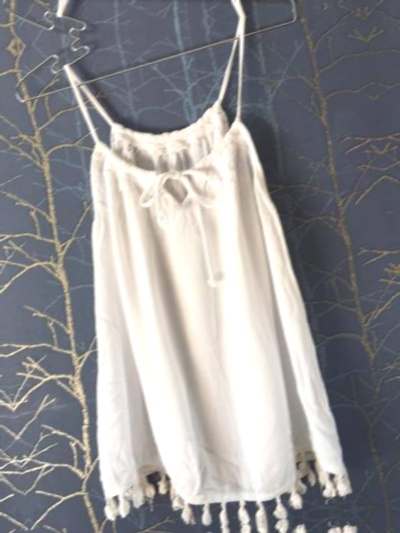Dress: (18, 28, 374, 533), (0, 0, 305, 26), (82, 509, 400, 533)
